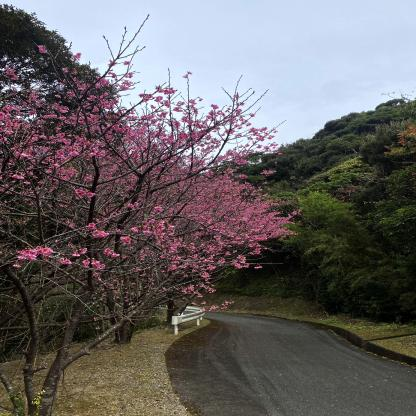KanhiSakura: (0, 12, 185, 310), (98, 40, 269, 300), (203, 179, 301, 316)
